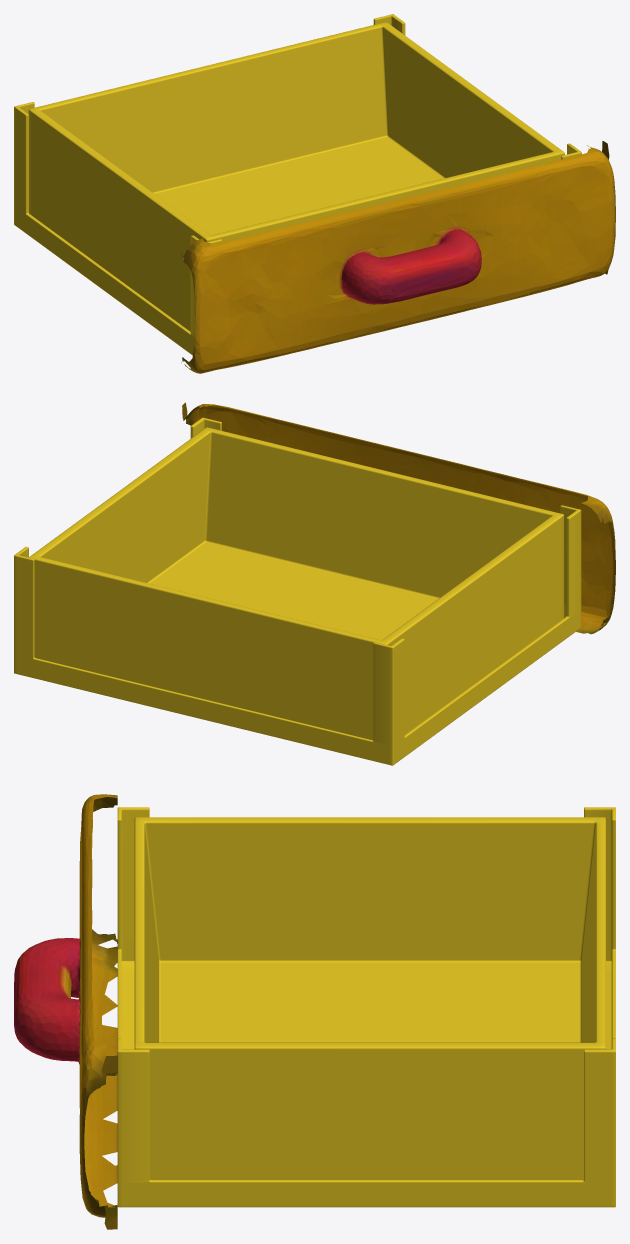
File: drawer_3.glb
3 views of the same model, one above another, from view 1: azimuth 30°, elevation 25°; view 2: azimuth 150°, elevation 25°; view 3: azimuth 270°, elevation 25° (orthographic). The views are drawn at different scales.
Parts seen in each view (by area): view 1: prefab_drawer_body_3, source_front_cap_0; view 2: prefab_drawer_body_3, source_front_cap_0; view 3: prefab_drawer_body_3, source_front_cap_0.
Boxes of the visible parts, x1=… form: prefab_drawer_body_3: x1=14, y1=14, x2=581, y2=355; source_front_cap_0: x1=181, y1=141, x2=615, y2=373; prefab_drawer_body_3: x1=14, y1=417, x2=581, y2=765; source_front_cap_0: x1=182, y1=402, x2=615, y2=634; prefab_drawer_body_3: x1=117, y1=807, x2=615, y2=1207; source_front_cap_0: x1=14, y1=794, x2=117, y2=1229.
Size of the model in its own units: 0.2562 by 0.0764 by 0.2401.
Materials: 2 (1 with a texture image).
